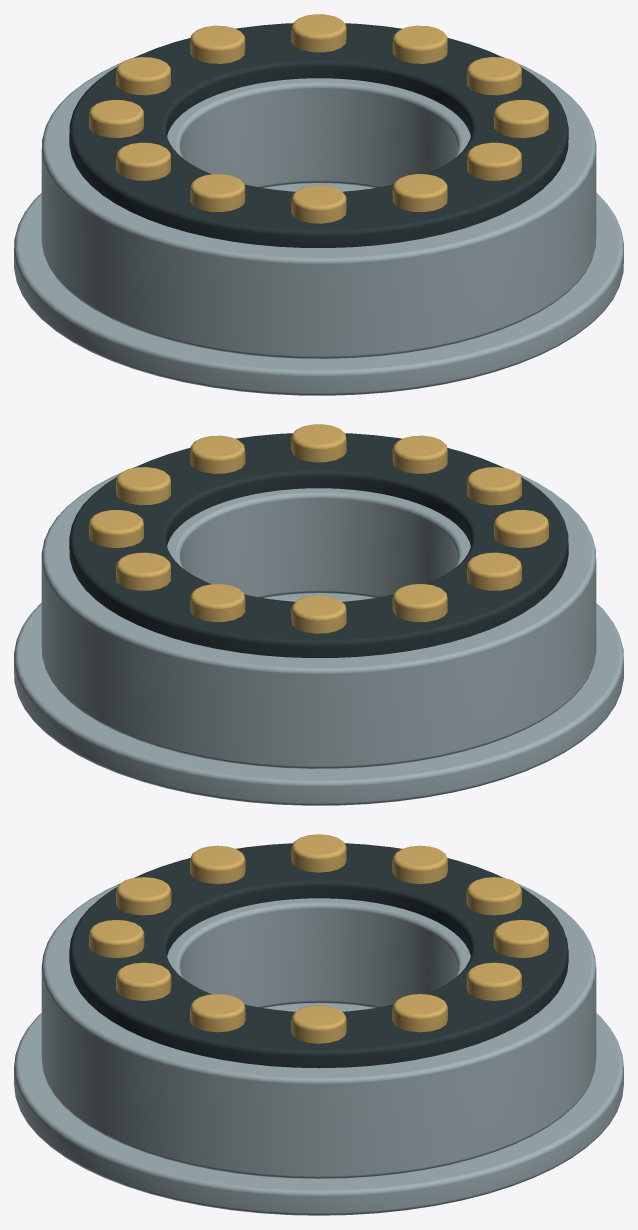
The model's file is SM_VBearing.fbx.
3 views of the same model, one above another, from view 1: azimuth 30°, elevation 25°; view 2: azimuth 150°, elevation 25°; view 3: azimuth 270°, elevation 25° (orthographic).
Visible parts, largest first — view 1: SM_VBearing; view 2: SM_VBearing; view 3: SM_VBearing.
Part boxes in pixels (x1,y1,x2,y2): SM_VBearing: (14,14,623,395); SM_VBearing: (14,424,623,805); SM_VBearing: (14,834,623,1215).
Size of the model in its own units: 44 by 44 by 12.6.
